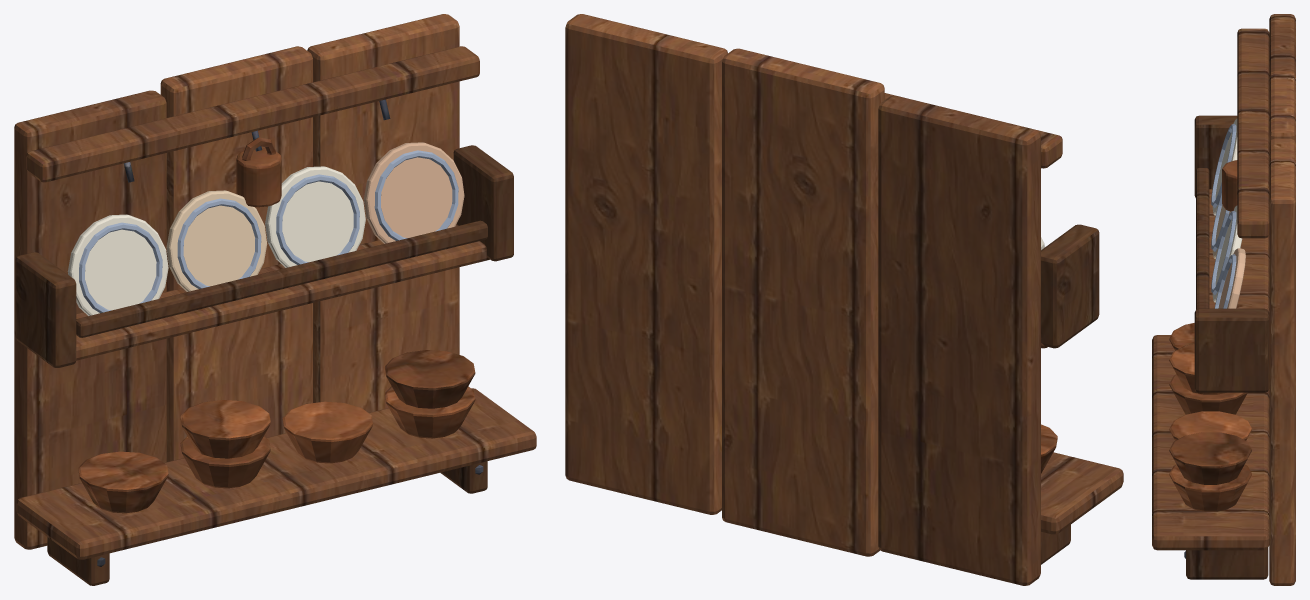
Rendered from dish_rack.glb.
3 views of the same model, side by side, from view 1: azimuth 30°, elevation 25°; view 2: azimuth 150°, elevation 25°; view 3: azimuth 270°, elevation 25° (orthographic). The views are drawn at different scales.
Parts seen in each view (by area): view 1: model; view 2: model; view 3: model.
Boxes of the visible parts, x1,y1,x2,y2 form: model: (14,14,536,585); model: (565,14,1123,585); model: (1152,14,1295,585).
Size of the model in its own units: 0.9018 by 0.8173 by 0.27.
Materials: 11 (7 with a texture image).
